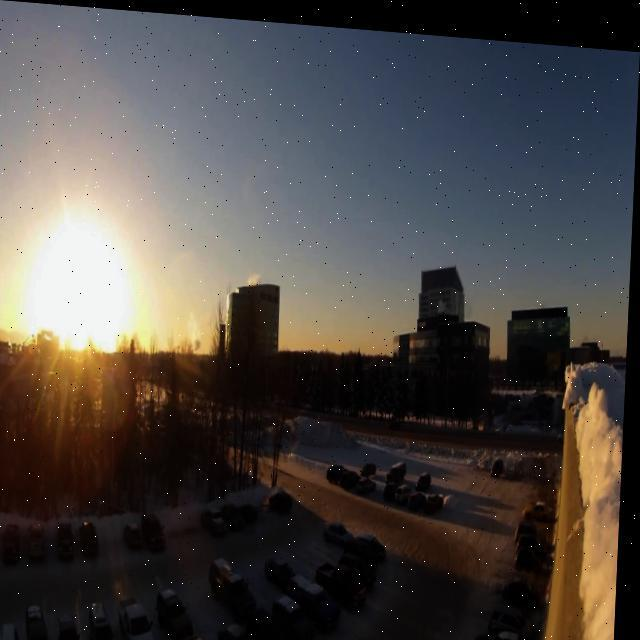Fire: (439, 290, 457, 306)
